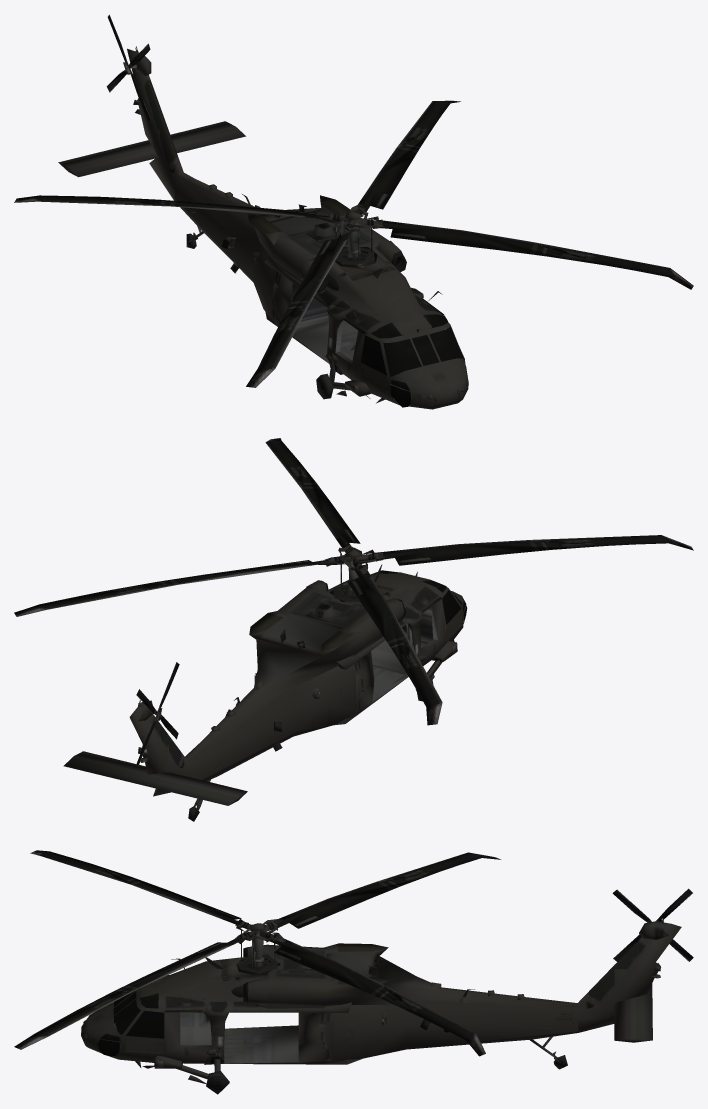
The model's file is heli_blackhawk_lod1.glb.
The picture shows the model from 3 angles, top to bottom: view 1: azimuth 30°, elevation 25°; view 2: azimuth 150°, elevation 25°; view 3: azimuth 270°, elevation 25°; orthographic projection. The views are drawn at different scales.
Visible parts, largest first — view 1: LOD1; view 2: LOD1; view 3: LOD1.
Part boxes in pixels (x1,y1,x2,y2): LOD1: (14, 14, 693, 409); LOD1: (14, 438, 693, 821); LOD1: (14, 850, 693, 1094).
Bounding box in the file's own units: 12.21 × 4.86 × 17.01.
Materials: 1 (1 with a texture image).
